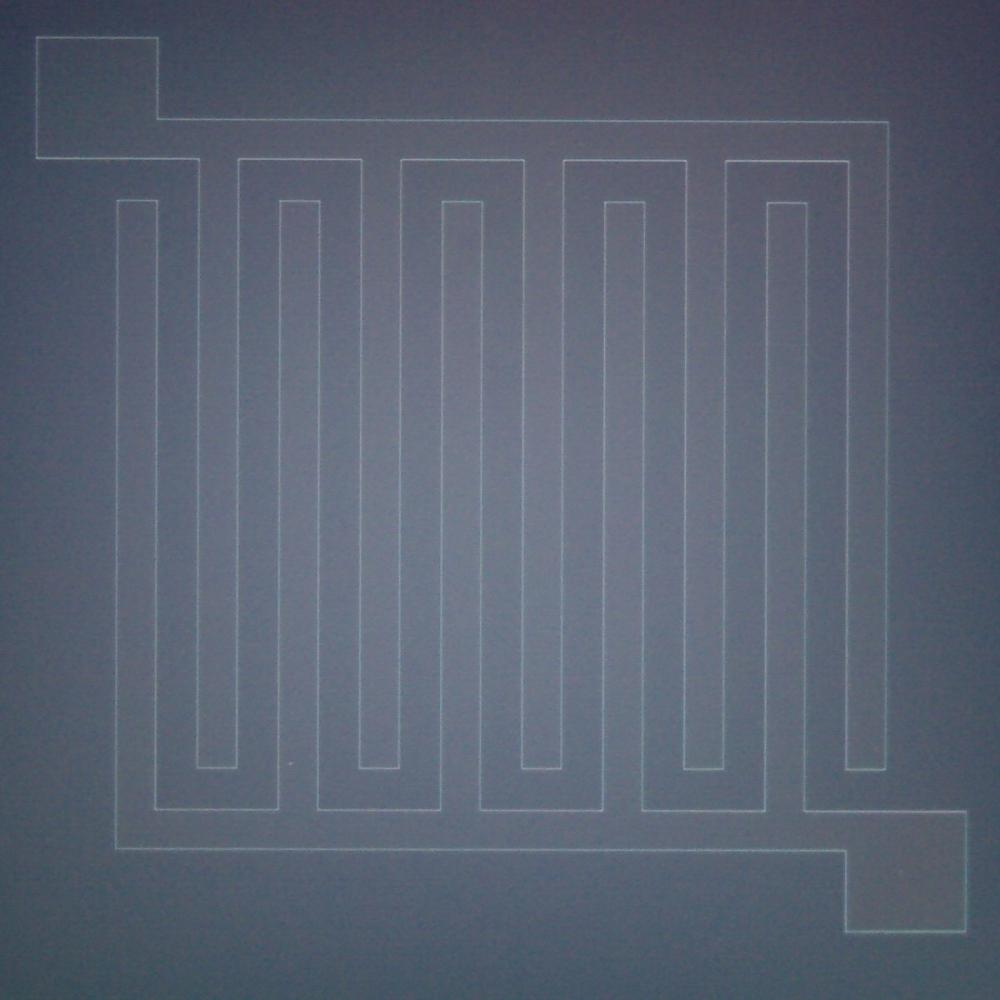dot: (288, 761, 294, 767)
